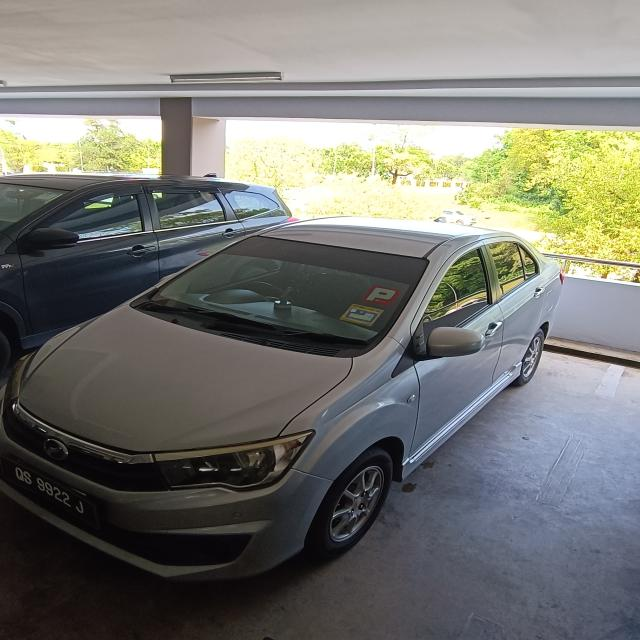PeroduaBezza: (1, 213, 565, 583)
